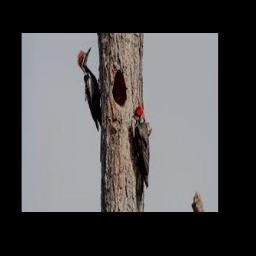Woodpecker: (77, 45, 101, 131), (131, 106, 150, 211)
